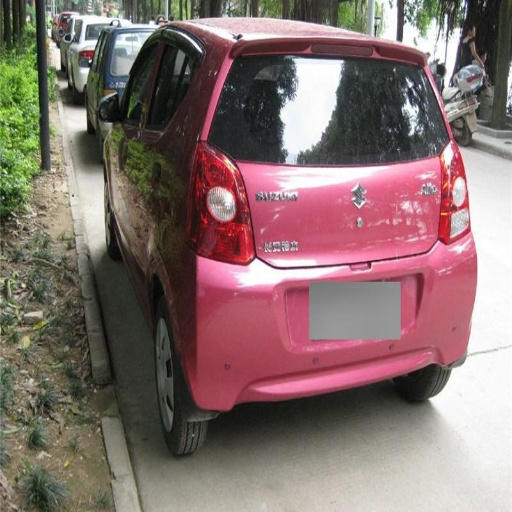back_bumper: (188, 235, 476, 406)
back_glass: (218, 54, 355, 164)
back_left_door: (358, 68, 445, 223)
back_left_light: (190, 139, 253, 263)
trunk: (240, 163, 444, 278)
